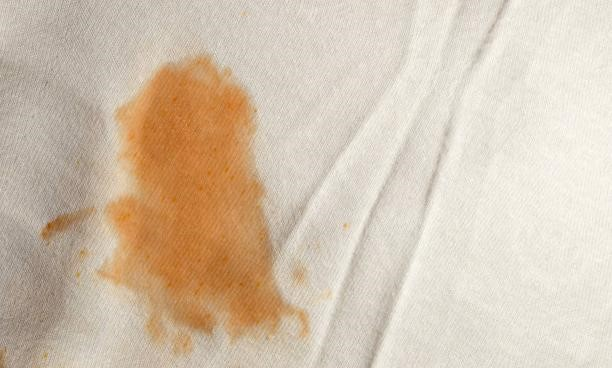stain: (96, 50, 330, 362), (31, 203, 96, 240), (71, 246, 93, 286)
